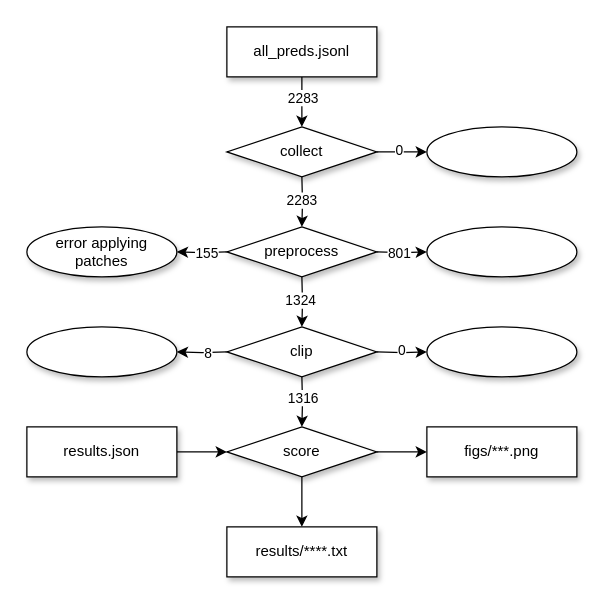
Some shapes in this 606 by 608 pixel diagram are drawn without their labels. The shapes that lost their labels are listed below. From the top down, each one's centre as x and y in pixels, then its label:
At (x=502, y=153): "invalid issue/pr".
At (x=502, y=253): "no comparable files".
At (x=102, y=353): "no code files".
At (x=502, y=353): "different files".
